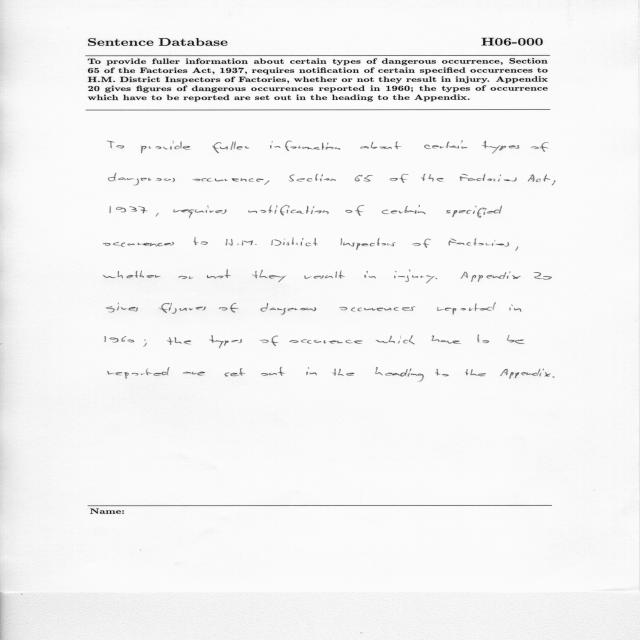word: (248, 205, 329, 216), (108, 173, 175, 185), (108, 367, 170, 379), (375, 367, 424, 382), (446, 205, 502, 218), (437, 303, 496, 315), (173, 206, 227, 219), (270, 141, 340, 151), (261, 303, 317, 315), (341, 238, 396, 250), (461, 271, 521, 282), (141, 141, 190, 153), (500, 368, 551, 379), (449, 238, 509, 247), (394, 270, 435, 283), (159, 303, 206, 314), (103, 271, 161, 279), (460, 174, 517, 182), (212, 142, 249, 154), (482, 141, 519, 153), (210, 335, 243, 348), (271, 238, 318, 247), (252, 270, 286, 282), (382, 205, 426, 214), (340, 307, 416, 312), (289, 174, 336, 182), (304, 270, 345, 279), (290, 339, 363, 344), (103, 242, 174, 247), (424, 141, 468, 149), (376, 335, 415, 344), (106, 303, 138, 313), (192, 178, 264, 182), (360, 142, 401, 149), (110, 206, 148, 213), (432, 335, 460, 344), (226, 239, 257, 246), (207, 270, 231, 279), (261, 367, 285, 376), (346, 205, 365, 216), (167, 337, 191, 345), (219, 303, 238, 313), (260, 336, 279, 346), (225, 368, 246, 377), (421, 174, 444, 182), (531, 142, 549, 152), (528, 174, 550, 182), (105, 336, 134, 342), (390, 174, 409, 183), (412, 239, 431, 248), (507, 335, 525, 344), (333, 369, 355, 376), (465, 369, 486, 376), (534, 272, 552, 280), (108, 141, 125, 149), (355, 175, 373, 182), (194, 237, 208, 245), (435, 369, 449, 376), (364, 271, 376, 279), (477, 335, 489, 343), (183, 372, 205, 376), (306, 368, 317, 376), (510, 305, 522, 312), (179, 276, 194, 279), (143, 339, 147, 347), (264, 180, 269, 185), (552, 181, 556, 186), (516, 246, 519, 251), (156, 213, 159, 217), (553, 376, 555, 378), (436, 278, 438, 279)
